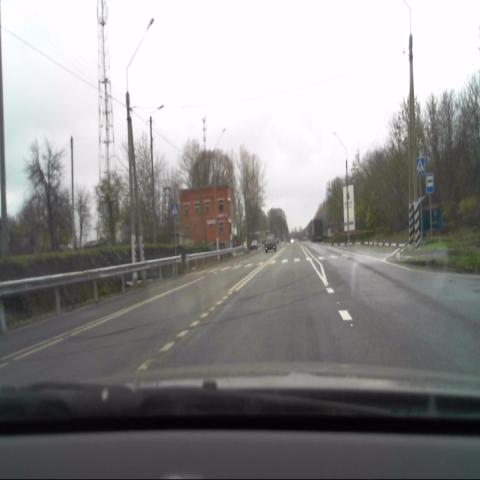5_16: (426, 173, 434, 194)
5_19_1: (171, 202, 179, 217), (417, 156, 424, 172)
